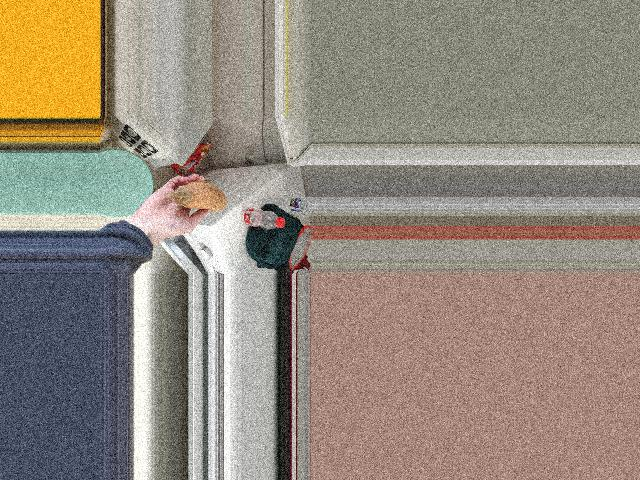sweet_potato: (164, 185, 230, 214)
